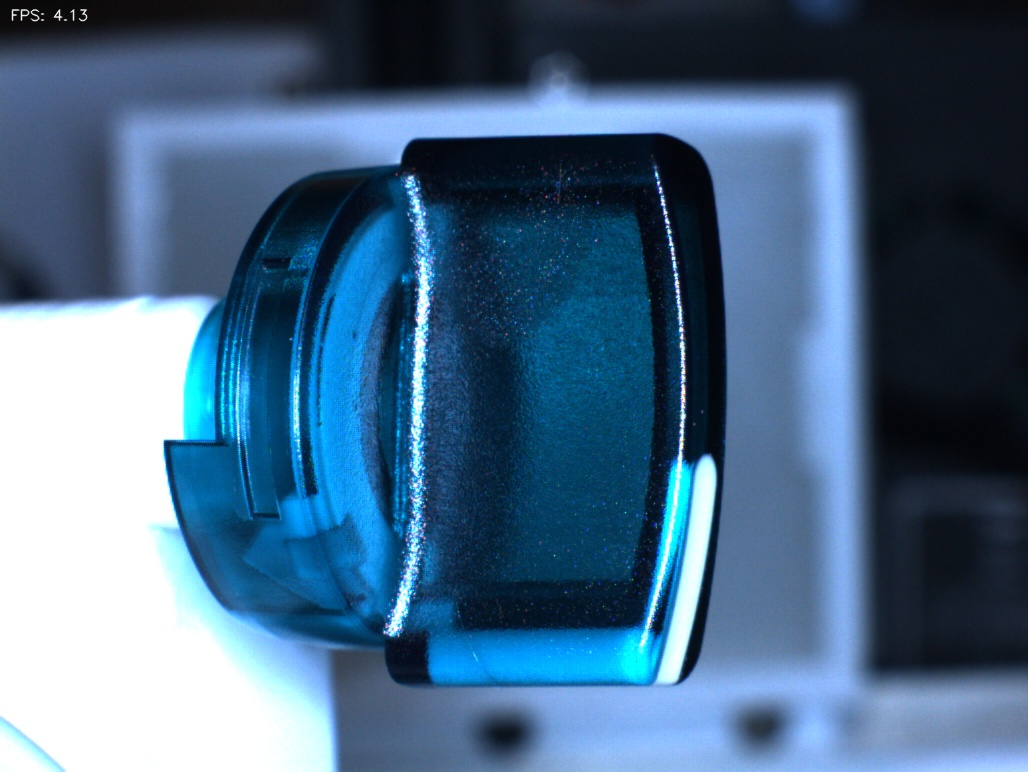PointNoir: (330, 301, 395, 373)
